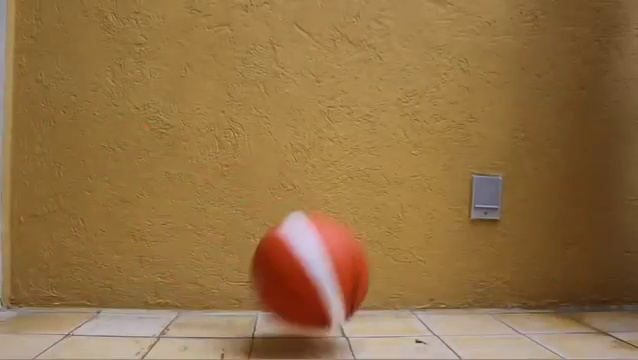ball: (252, 208, 370, 329)
